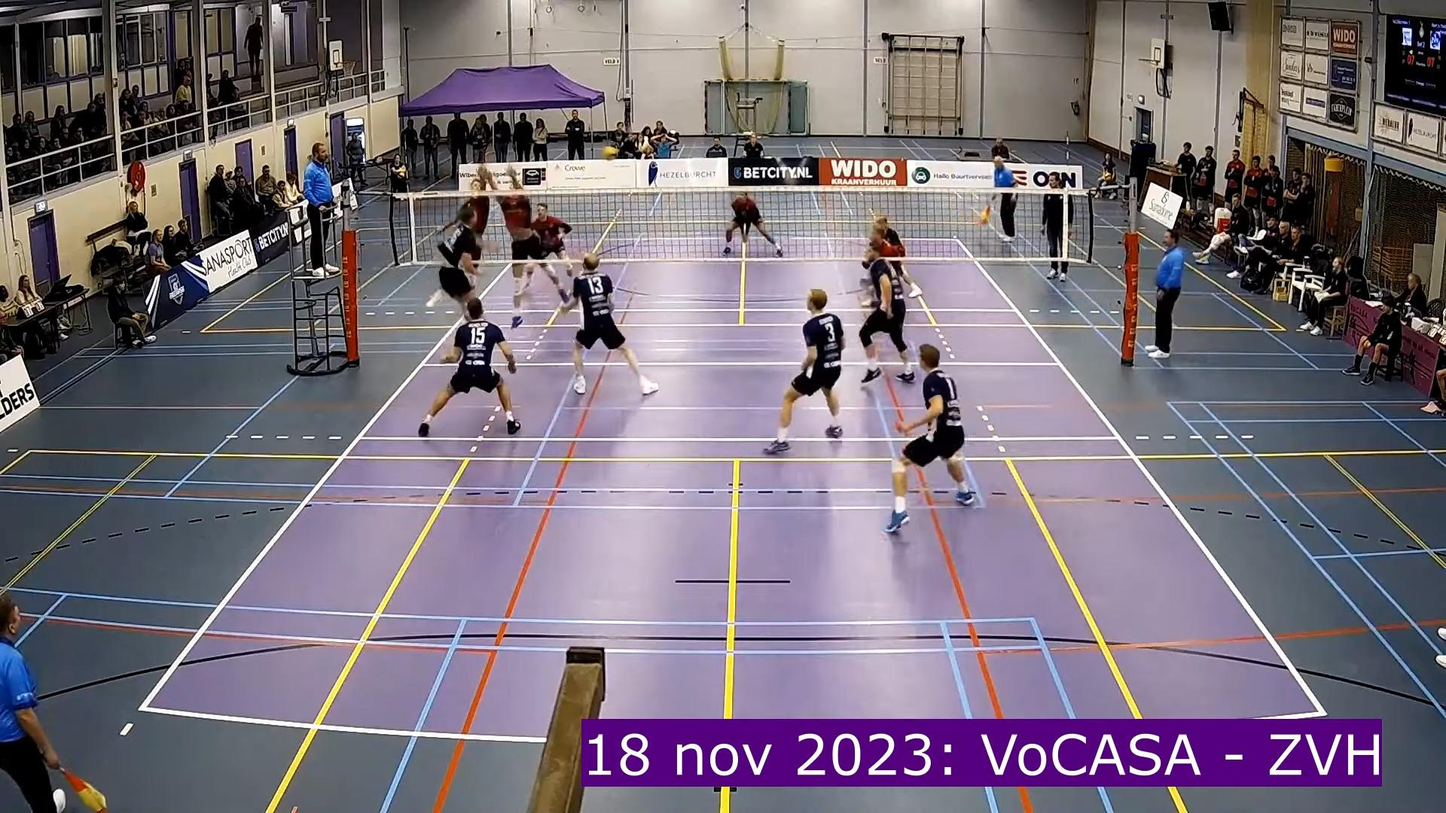Attack: (415, 199, 495, 339)
Block: (486, 157, 576, 329), (441, 158, 497, 229)
Player: (884, 345, 975, 533), (558, 253, 658, 394), (419, 298, 520, 437), (764, 289, 843, 454), (859, 239, 914, 383), (874, 214, 921, 297), (723, 192, 782, 257), (534, 203, 572, 276)
